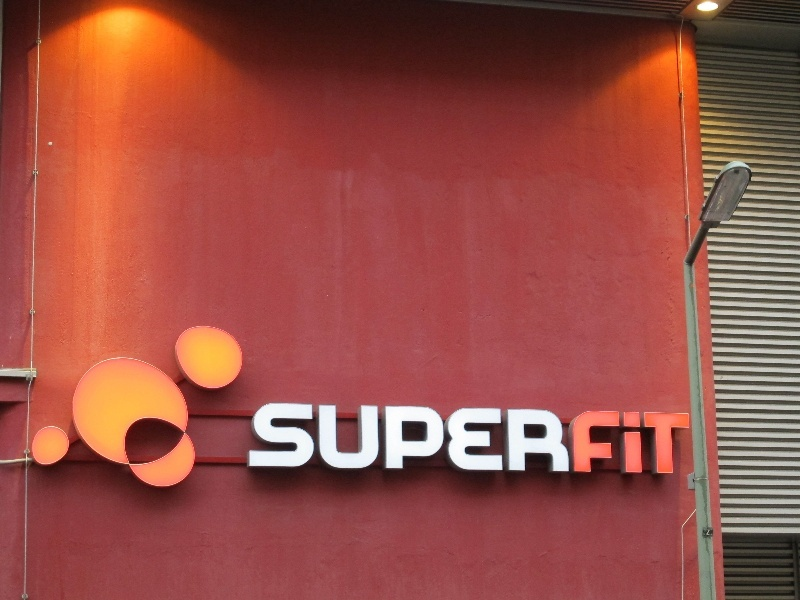text: (257, 400, 272, 475), (273, 400, 288, 475), (289, 400, 304, 475), (305, 400, 320, 475), (321, 400, 336, 475), (337, 400, 352, 475), (353, 400, 368, 475), (369, 400, 384, 475), (385, 400, 400, 475), (401, 400, 416, 475), (417, 400, 432, 475), (433, 400, 448, 475), (449, 400, 464, 475), (465, 400, 480, 475), (481, 400, 496, 475), (497, 400, 512, 475), (513, 400, 528, 475), (529, 400, 544, 475), (545, 400, 560, 475), (561, 400, 576, 475), (577, 400, 592, 475), (593, 400, 608, 475), (609, 400, 624, 475), (625, 400, 640, 475), (641, 400, 656, 475), (657, 400, 672, 475), (673, 400, 688, 475), (689, 400, 693, 475), (254, 400, 256, 475)
